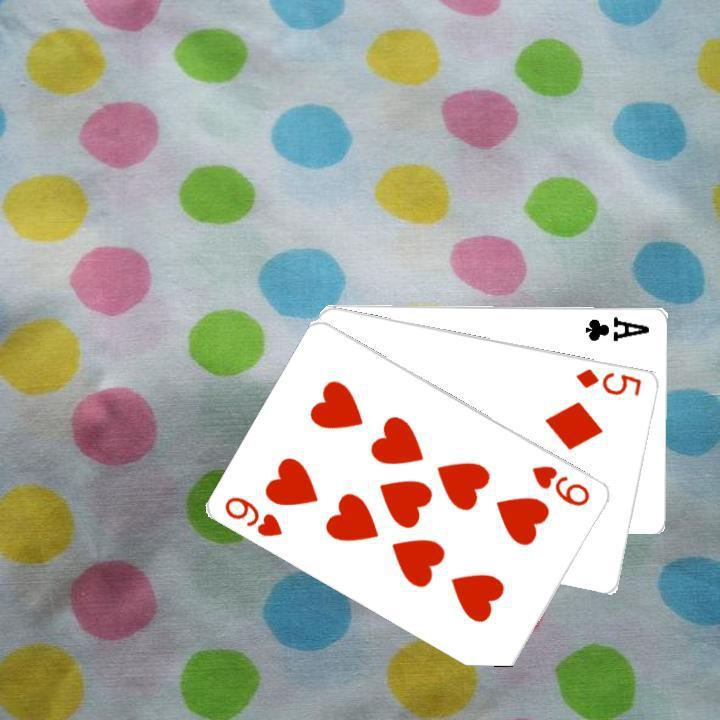5: (572, 363, 644, 398)
9: (528, 460, 593, 509), (220, 492, 286, 539)
A: (581, 312, 651, 343)
